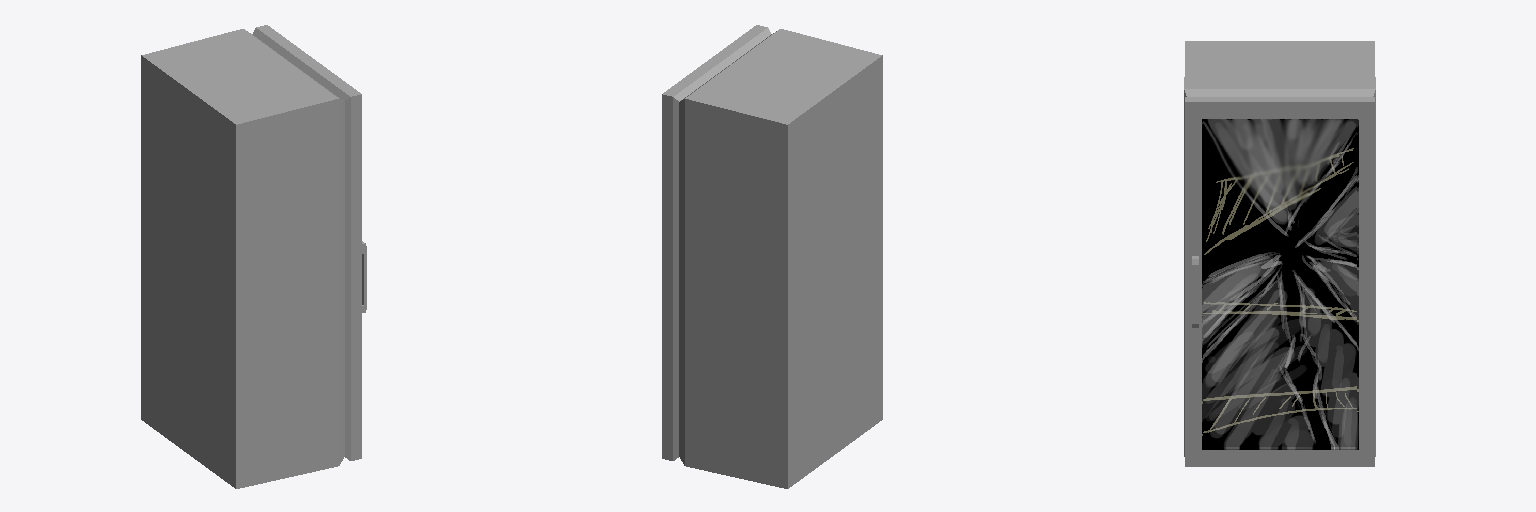
The picture shows the model from 3 angles: view 1: azimuth 30°, elevation 25°; view 2: azimuth 150°, elevation 25°; view 3: azimuth 270°, elevation 25°; orthographic projection.
Visible parts, largest first — view 1: Fridge2; view 2: Fridge2; view 3: Fridge2.
Boxes of the visible parts, box(x1,y1,x2,y2) form: Fridge2: box(141, 25, 366, 488); Fridge2: box(662, 25, 882, 488); Fridge2: box(1184, 41, 1375, 466).
Size of the model in its own units: 5.35 by 13.99 by 6.6.
Materials: 1 (1 with a texture image).